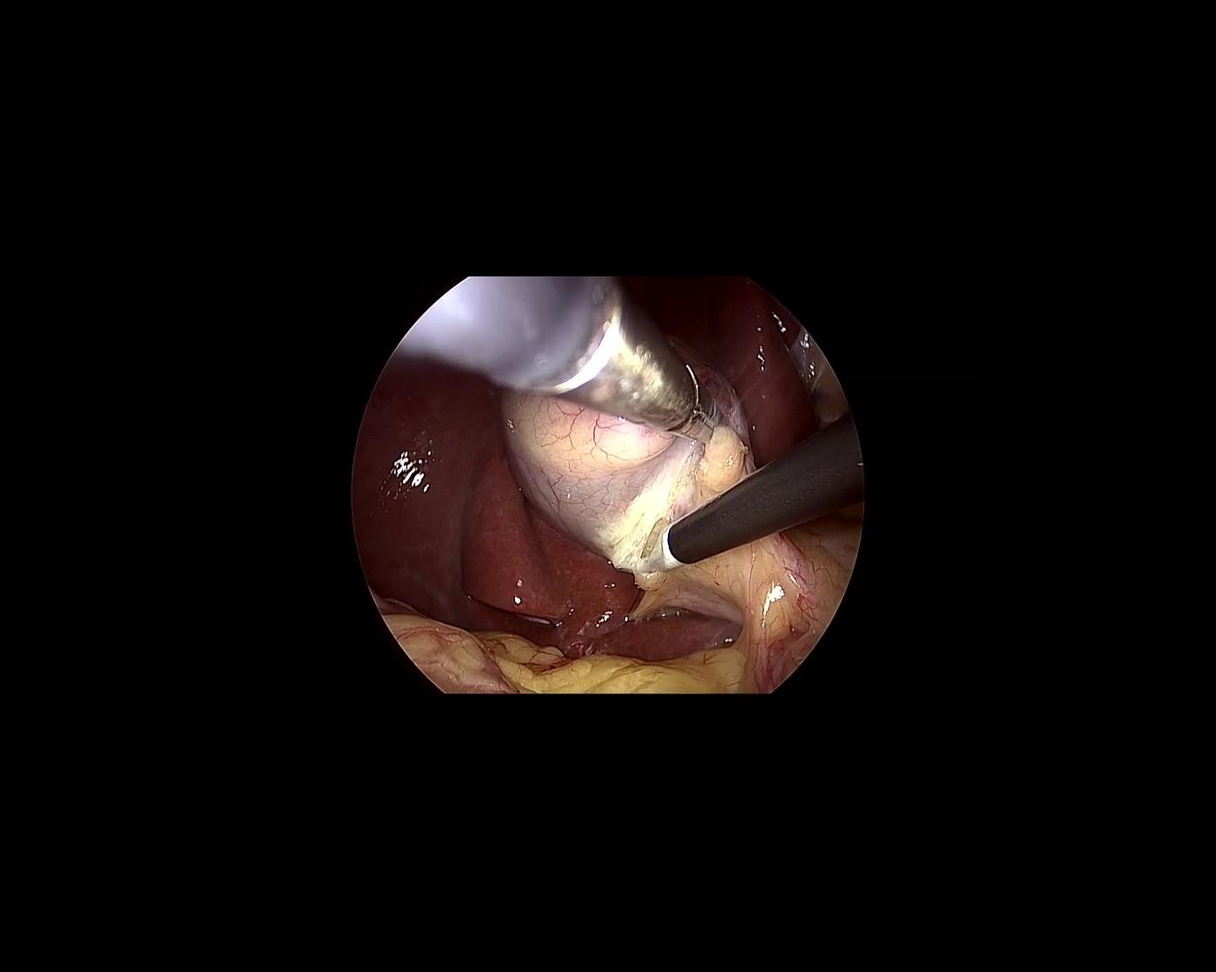Cautery: (611, 415, 879, 583)
Forceps: (398, 277, 732, 447)
Gallbladder: (468, 274, 773, 578)
Liver: (318, 355, 785, 697), (623, 213, 851, 468)
